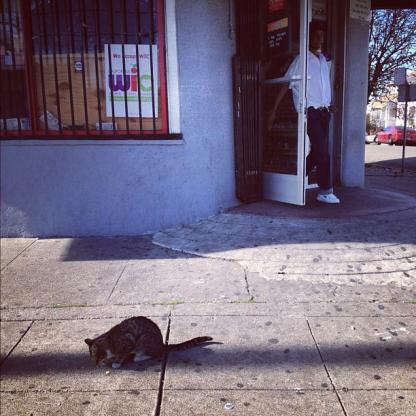Target: (83, 313, 216, 371)
